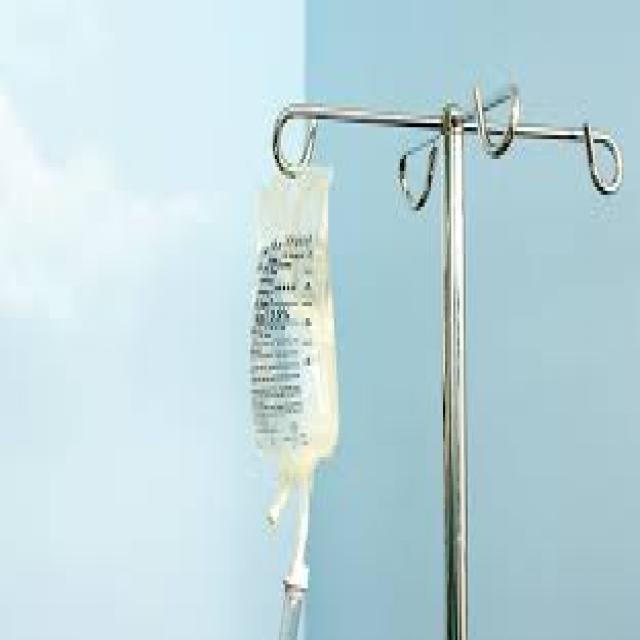iv_fluids: (222, 147, 375, 620)
